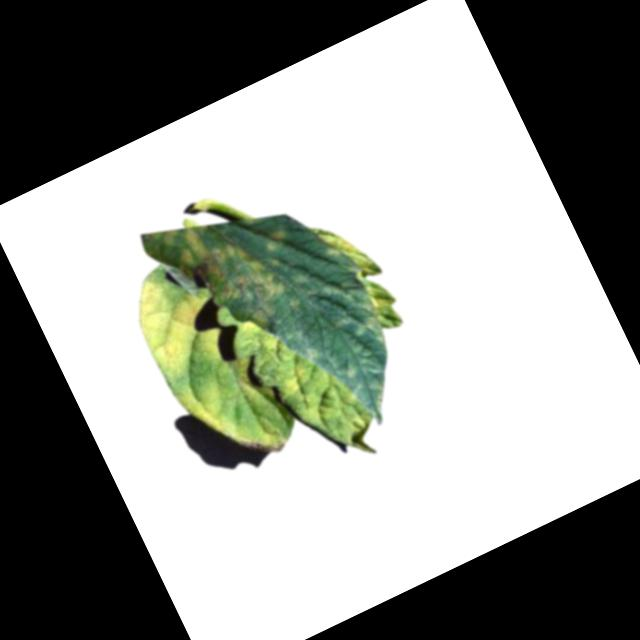Leaf_Mold: (153, 194, 295, 356), (114, 260, 229, 387), (171, 375, 239, 450), (268, 356, 314, 402)
